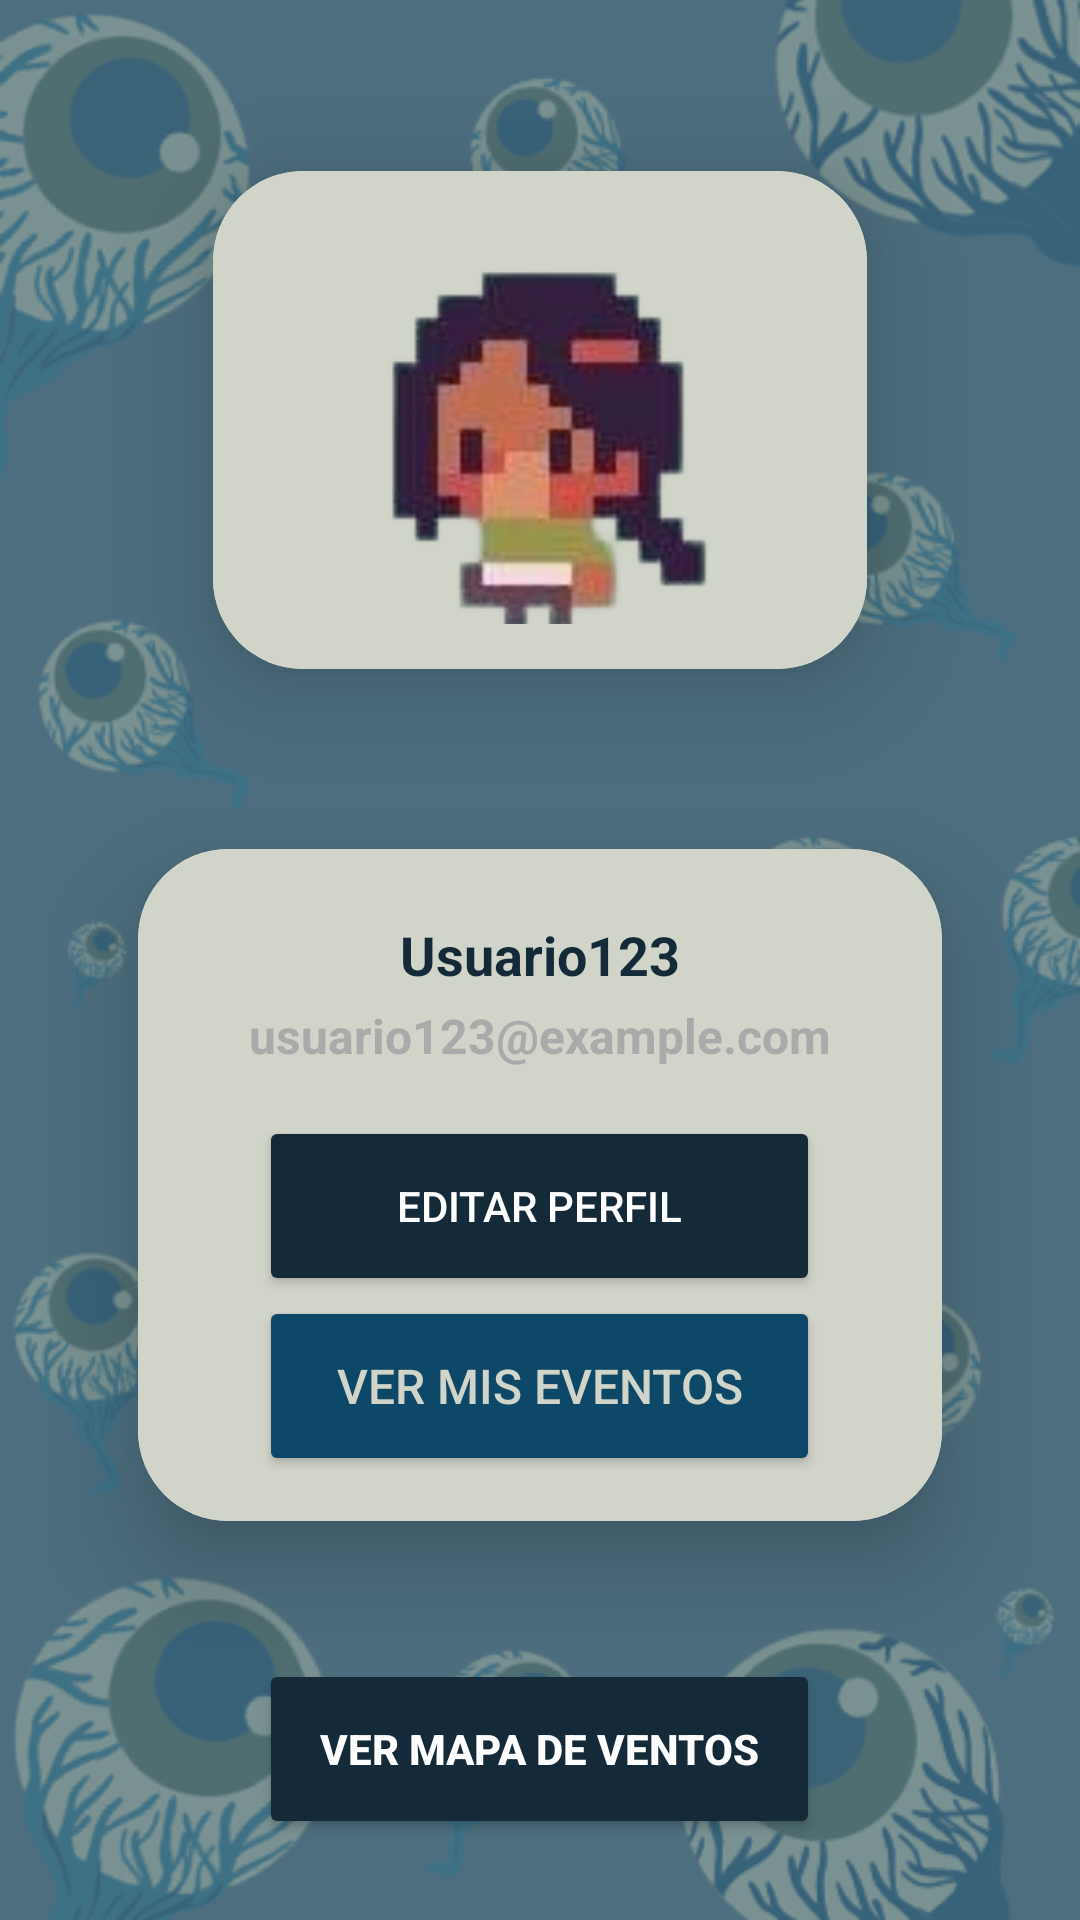

Icons on this 1080 × 1920 Android screen, each with its box as (x1,y1,x2,y2):
personaje: (392,272,707,624)
